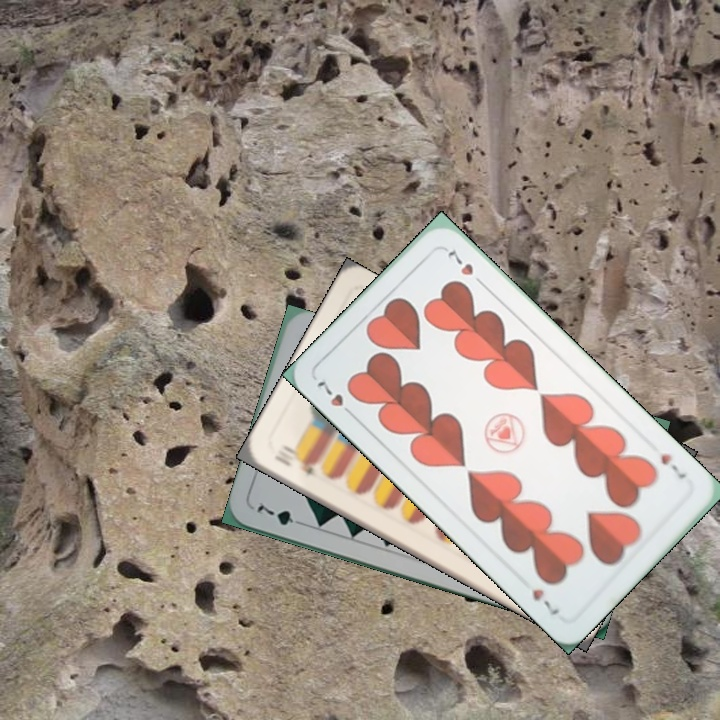E10: (270, 443, 317, 478)
G7: (252, 498, 308, 529)
H7: (312, 377, 358, 421), (656, 449, 689, 482)
